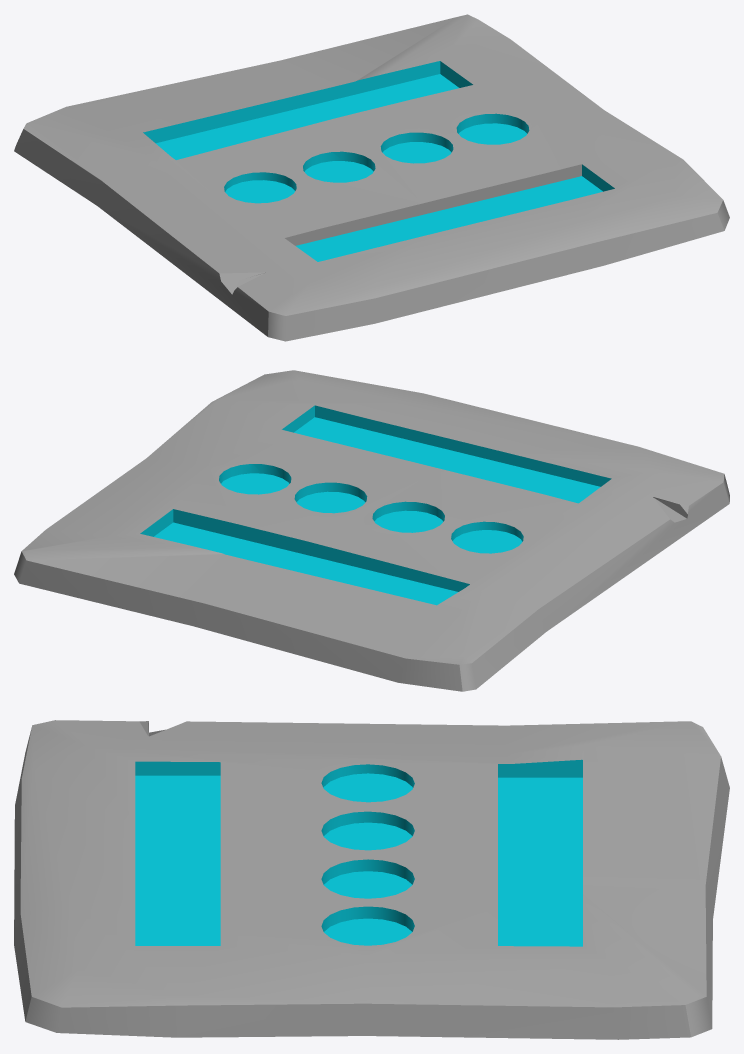
Rendered from dalle14.fbx.
3 renders of one model, top to bottom at view 1: azimuth 30°, elevation 25°; view 2: azimuth 150°, elevation 25°; view 3: azimuth 270°, elevation 25°, orthographic. The views are drawn at different scales.
Parts seen in each view (by area): view 1: pCube5; view 2: pCube5; view 3: pCube5.
Part boxes in pixels (x1=…): pCube5: x1=14, y1=14, x2=729, y2=341; pCube5: x1=14, y1=370, x2=729, y2=691; pCube5: x1=14, y1=720, x2=729, y2=1039.
Size of the model in its own units: 6.99 by 0.4395 by 7.18.
